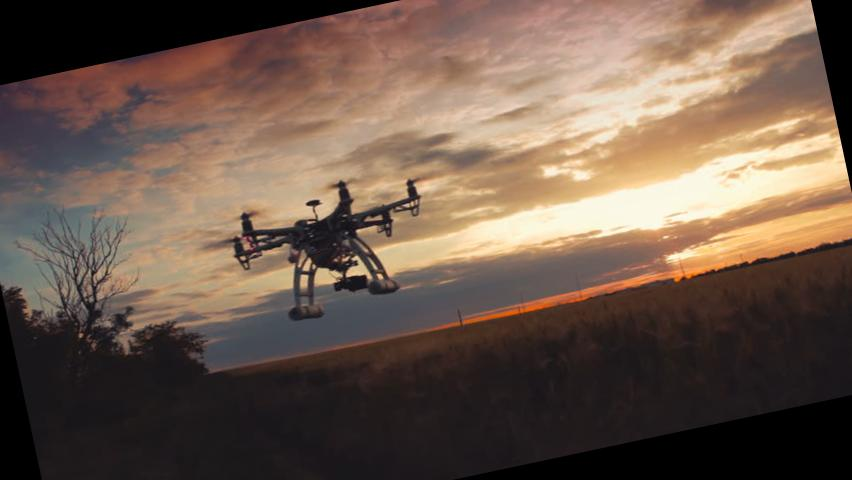drone: (190, 160, 451, 296)
